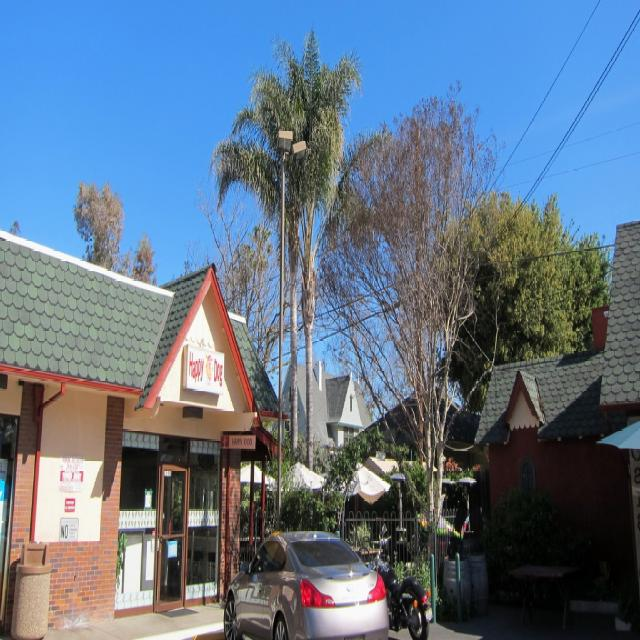car: (216, 531, 384, 632)
